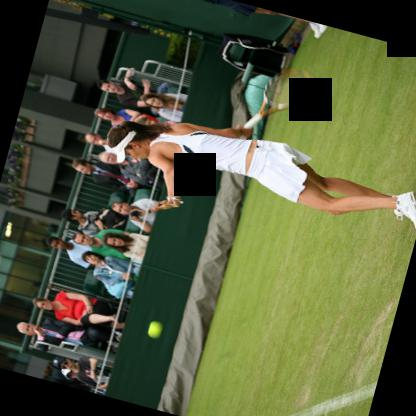backpack: (94, 204, 125, 229)
